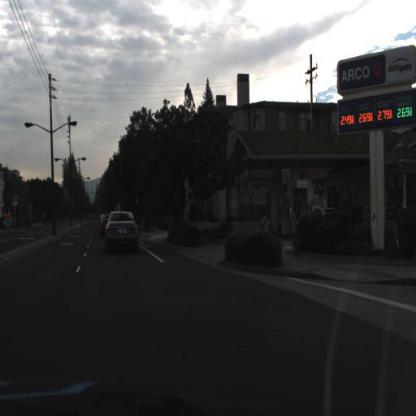car: (103, 208, 140, 254)
